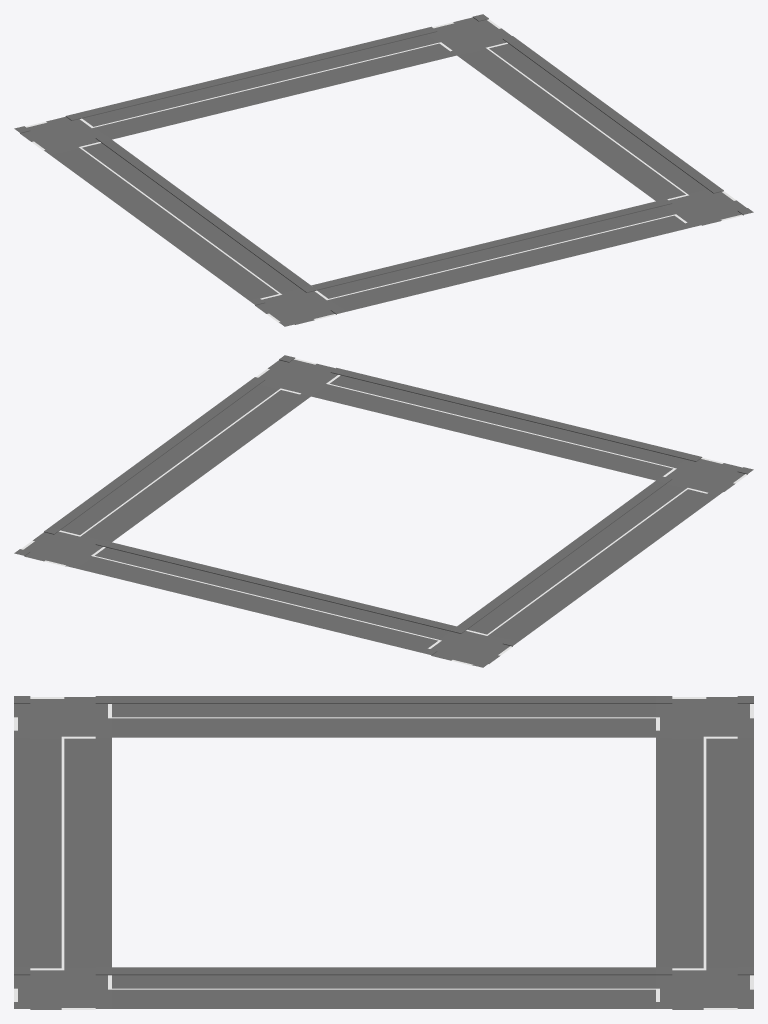
File: Road.glb
The picture shows the model from 3 angles, top to bottom: view 1: azimuth 30°, elevation 25°; view 2: azimuth 150°, elevation 25°; view 3: azimuth 270°, elevation 25°; orthographic projection. The views are drawn at different scales.
Visible parts, largest first — view 1: Roads; view 2: Roads; view 3: Roads.
Boxes of the visible parts, left/top/right/bottom form: Roads: left=14, top=14, right=753, bottom=326; Roads: left=14, top=355, right=753, bottom=667; Roads: left=14, top=696, right=753, bottom=1009.
Bounding box in the file's own units: 136 × 0.2 × 136.
Materials: 1 (1 with a texture image).
